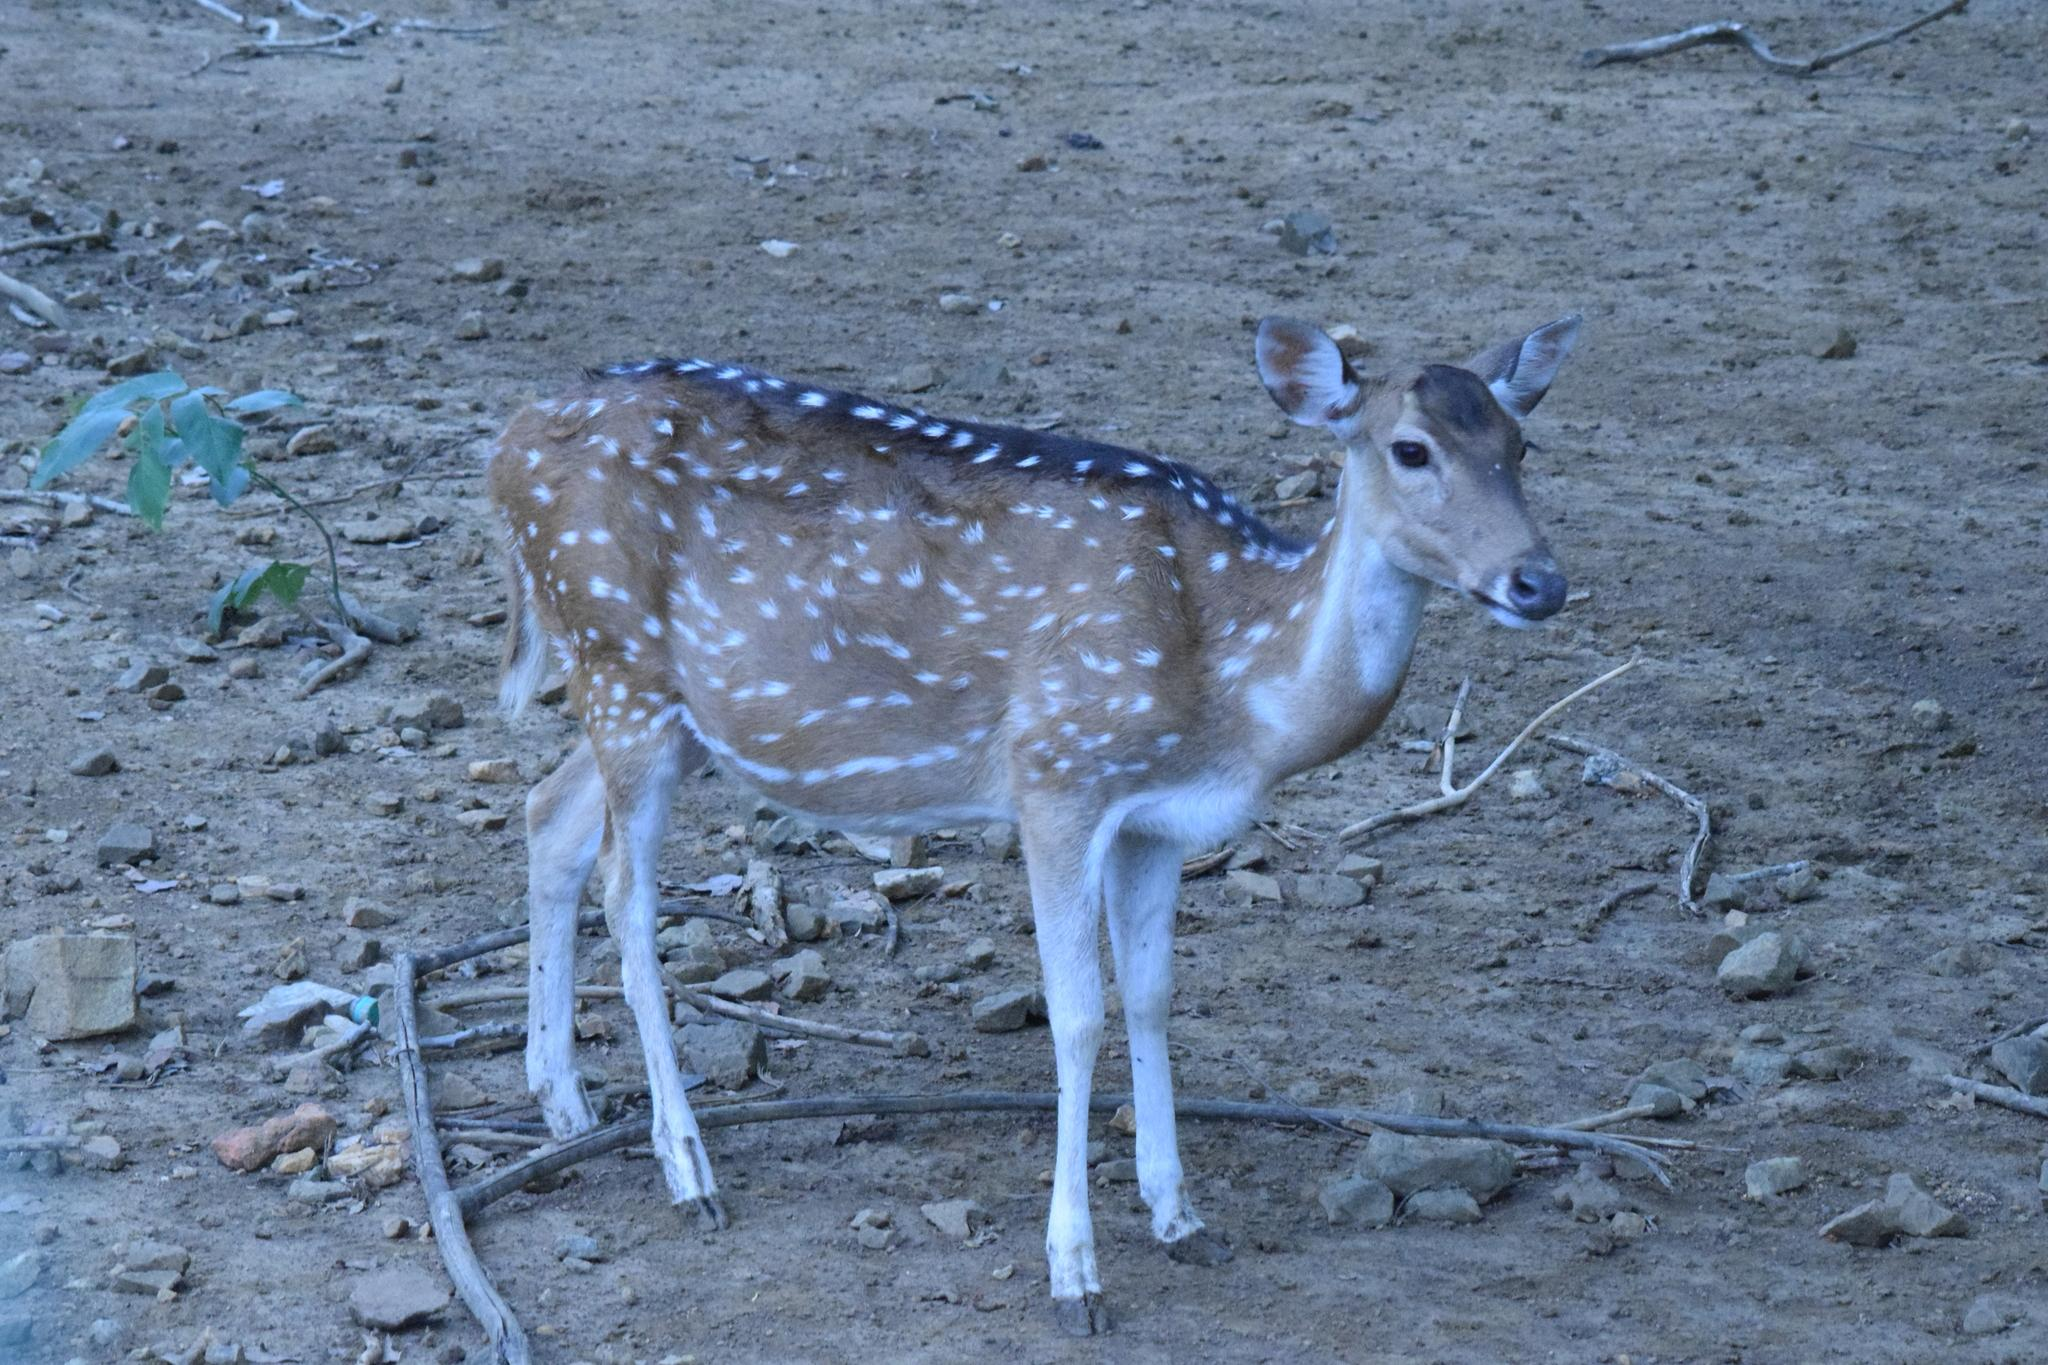Deer: (487, 315, 1581, 1310)
